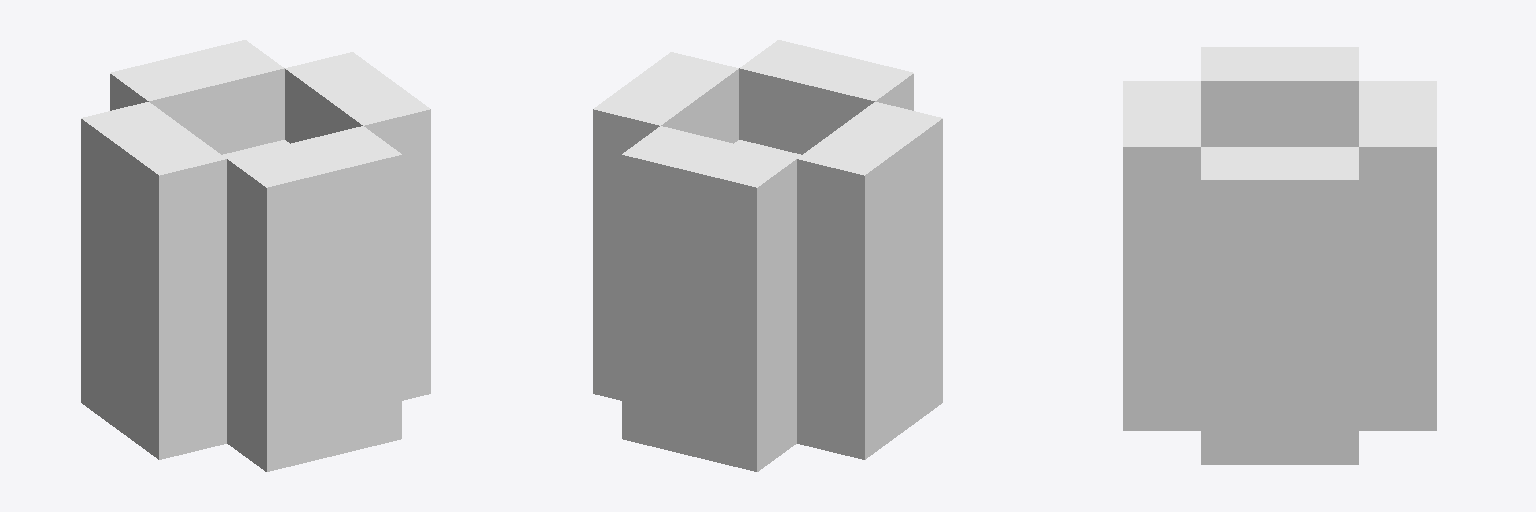
The model's file is classic-cup.obj.
3 views of the same model, side by side, from view 1: azimuth 30°, elevation 25°; view 2: azimuth 150°, elevation 25°; view 3: azimuth 270°, elevation 25° (orthographic).
Parts seen in each view (by area): view 1: classic:cup; view 2: classic:cup; view 3: classic:cup.
Part boxes in pixels (bbox=[...]): classic:cup: bbox=[81, 40, 430, 471]; classic:cup: bbox=[593, 40, 942, 471]; classic:cup: bbox=[1123, 47, 1436, 464].
Size of the model in its own units: 4 by 4 by 4.